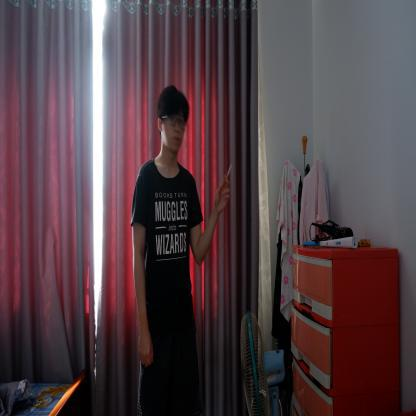cigarette: (226, 164, 232, 179)
person: (128, 84, 208, 415)
